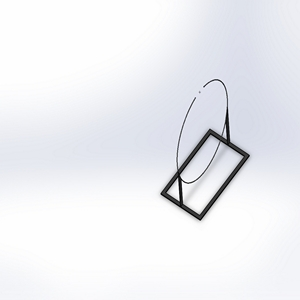circle: (157, 76, 252, 223)
